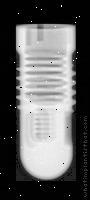Camlog: (16, 24, 76, 181)
